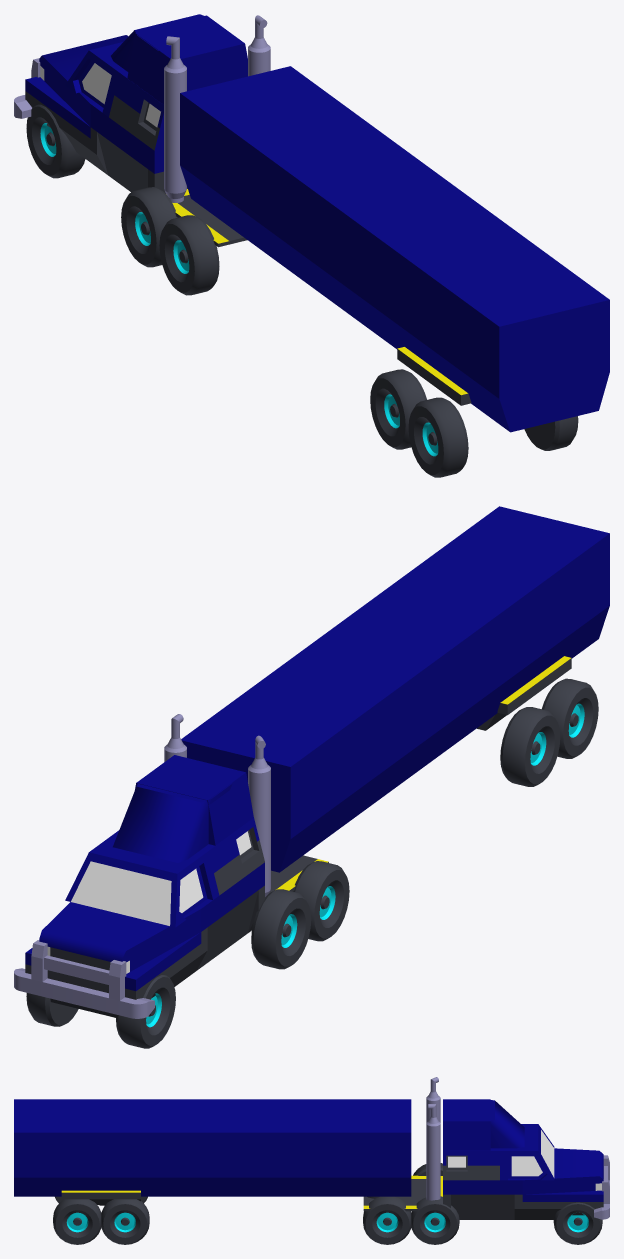
Rendered from obstacle_semi.glb.
The picture shows the model from 3 angles, top to bottom: view 1: azimuth 30°, elevation 25°; view 2: azimuth 150°, elevation 25°; view 3: azimuth 270°, elevation 25°; orthographic projection. The views are drawn at different scales.
Visible parts, largest first — view 1: mergedBlocks(Clone); view 2: mergedBlocks(Clone); view 3: mergedBlocks(Clone).
Boxes of the visible parts, x1=… form: mergedBlocks(Clone): x1=14, y1=14, x2=609, y2=477; mergedBlocks(Clone): x1=14, y1=506, x2=609, y2=1048; mergedBlocks(Clone): x1=14, y1=1077, x2=609, y2=1244.
Bounding box in the file's own units: 1.3 × 1.91 × 7.5.
1 material, 1 textured.
